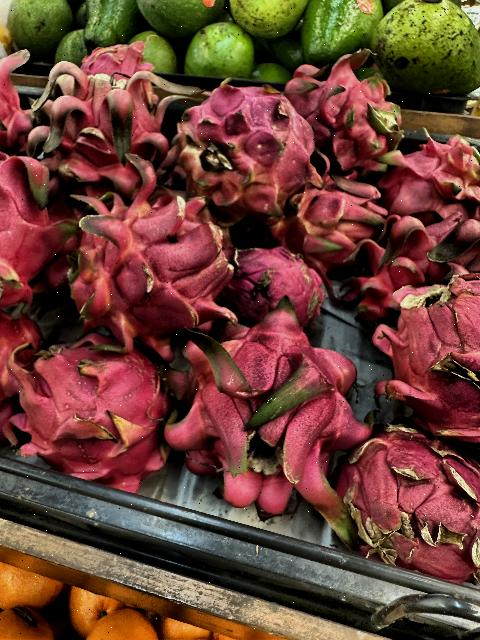buah-naga-matang: (174, 302, 359, 512), (65, 181, 237, 327), (10, 336, 172, 482), (342, 404, 480, 568), (30, 59, 184, 198), (178, 64, 324, 210), (281, 38, 423, 166), (388, 280, 480, 442), (350, 211, 480, 313), (0, 144, 76, 306), (374, 132, 480, 220), (280, 170, 386, 252), (231, 245, 320, 321), (0, 312, 42, 442), (0, 49, 38, 159)
